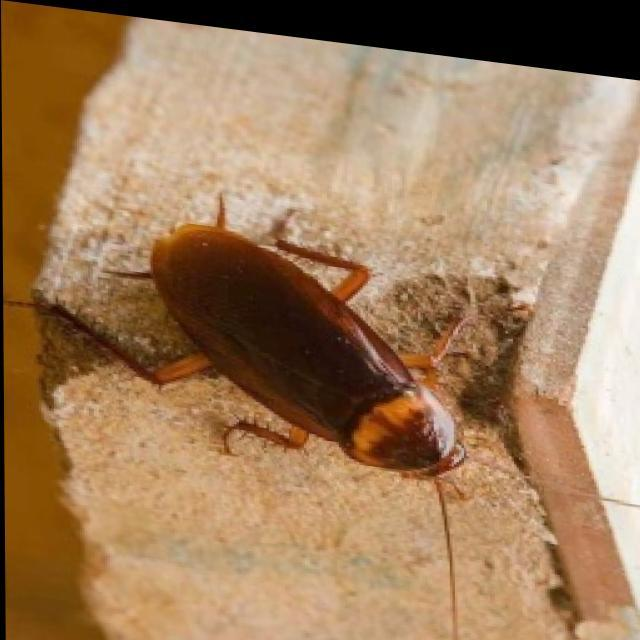cockroach: (122, 197, 510, 522)
